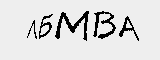А: (118, 15, 141, 43)
Б: (38, 12, 53, 39)
В: (94, 8, 116, 41)
Л: (23, 19, 38, 39)
М: (55, 7, 89, 43)
